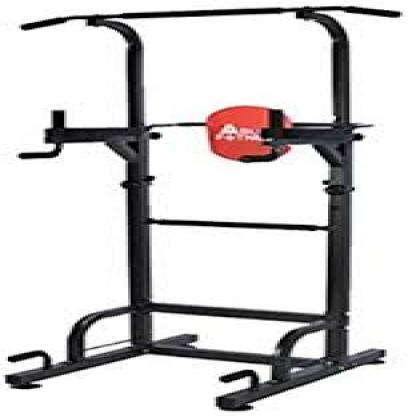chinning dipping: (8, 5, 394, 411)
